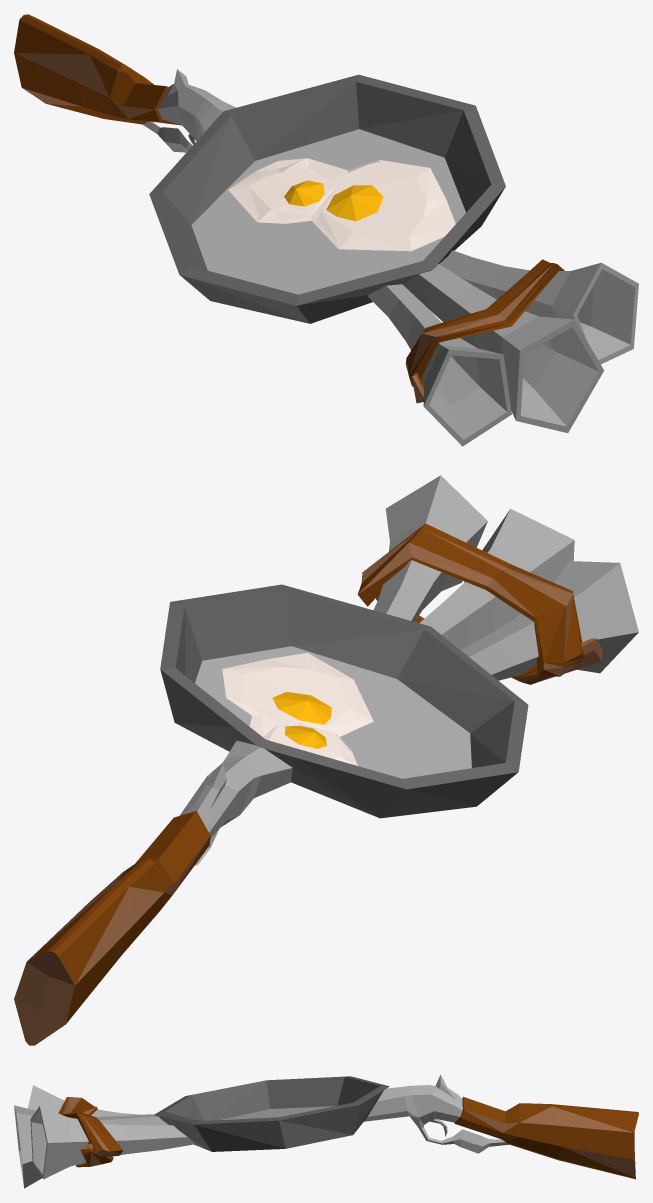
Rendered from b055-gravestone.fbx.
The picture shows the model from 3 angles, top to bottom: view 1: azimuth 30°, elevation 25°; view 2: azimuth 150°, elevation 25°; view 3: azimuth 270°, elevation 25°; orthographic projection. The views are drawn at different scales.
Visible parts, largest first — view 1: weapon; view 2: weapon; view 3: weapon.
Part boxes in pixels (bbox=[...]): weapon: bbox=[14, 14, 638, 446]; weapon: bbox=[14, 475, 638, 1045]; weapon: bbox=[14, 1074, 638, 1188].
Bounding box in the file's own units: 88.06 × 45 × 241.
